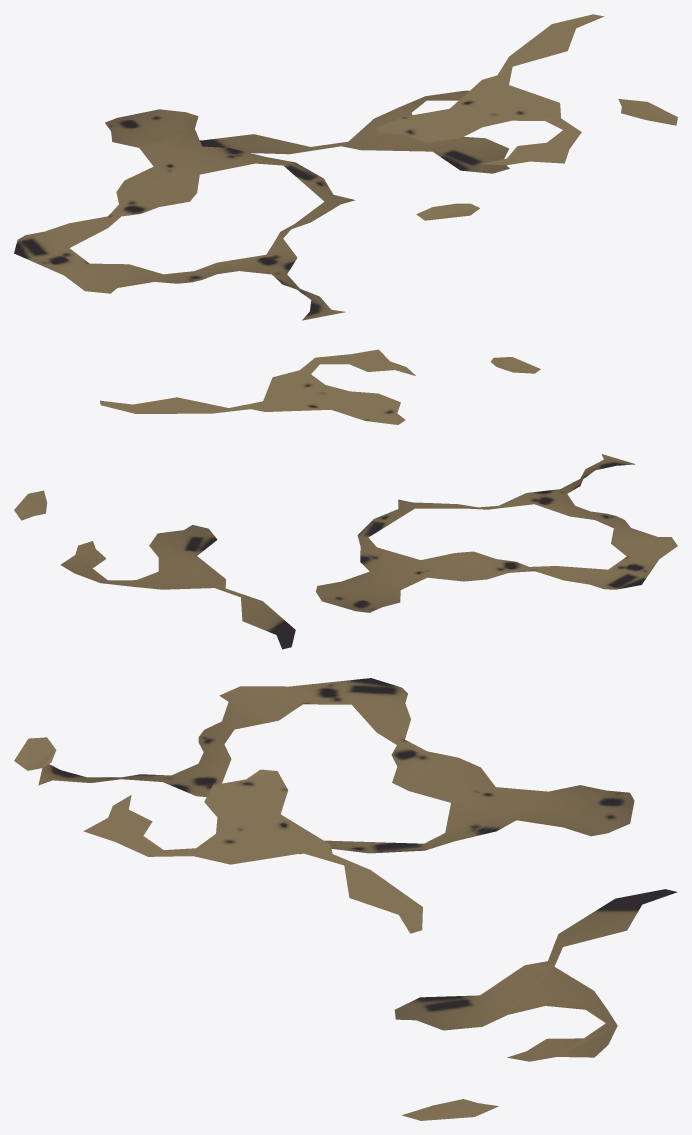
The model's file is Ground_05.FBX.
3 views of the same model, one above another, from view 1: azimuth 30°, elevation 25°; view 2: azimuth 150°, elevation 25°; view 3: azimuth 270°, elevation 25° (orthographic). The views are drawn at different scales.
Visible parts, largest first — view 1: Ground_05; view 2: Ground_05; view 3: Ground_05.
Boxes of the visible parts, <box> form: Ground_05: <box>14,14,677,320</box>; Ground_05: <box>14,349,677,649</box>; Ground_05: <box>14,678,677,1120</box>.
Bounding box in the file's own units: 40.64 × 7.04 × 29.33.
